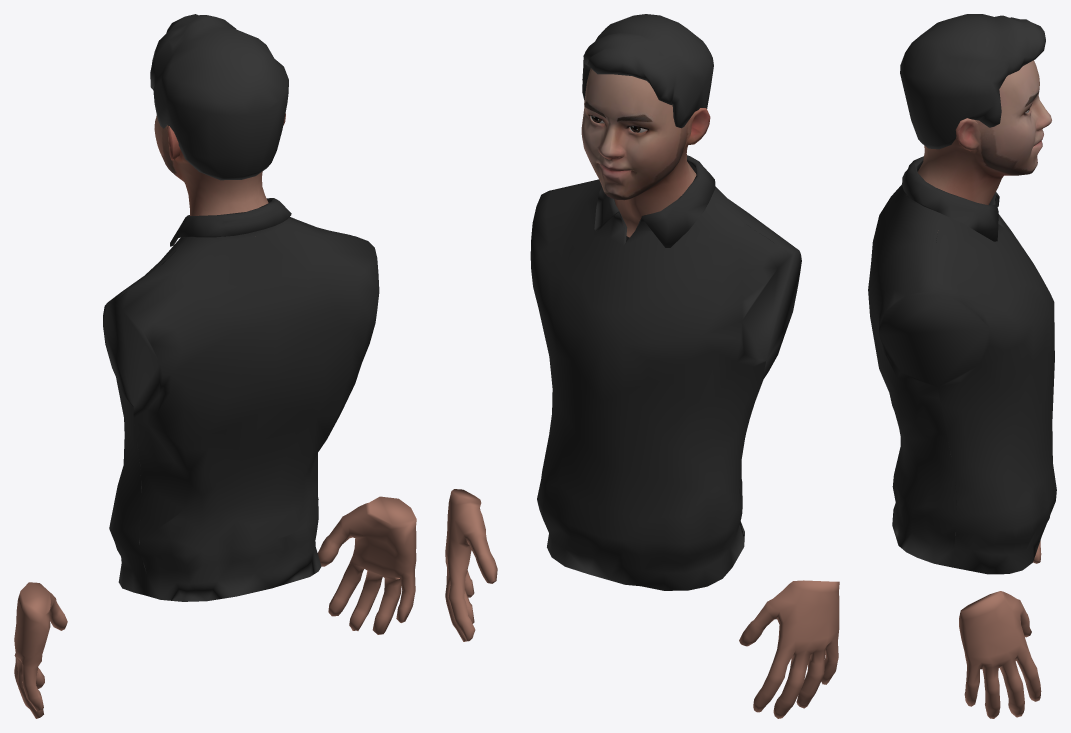
Rendered from avatar.glb.
3 renders of one model, left to right at view 1: azimuth 30°, elevation 25°; view 2: azimuth 150°, elevation 25°; view 3: azimuth 270°, elevation 25°, orthographic. The views are drawn at different scales.
Parts seen in each view (by area): view 1: Wolf3D_Outfit_Top, Wolf3D_Hair, Wolf3D_Right_hand, Wolf3D_Left_hand, Wolf3D_Head; view 2: Wolf3D_Outfit_Top, Wolf3D_Head, Wolf3D_Hair, Wolf3D_Left_hand, Wolf3D_Right_hand; view 3: Wolf3D_Outfit_Top, Wolf3D_Hair, Wolf3D_Head, Wolf3D_Right_hand.
Part boxes in pixels (x1,y1,x2,y2): Wolf3D_Outfit_Top: (103,198,379,601); Wolf3D_Hair: (150,14,288,180); Wolf3D_Right_hand: (317,496,416,634); Wolf3D_Left_hand: (14,582,67,718); Wolf3D_Head: (154,113,285,215); Wolf3D_Outfit_Top: (530,155,801,590); Wolf3D_Head: (581,68,710,237); Wolf3D_Hair: (582,14,713,128); Wolf3D_Left_hand: (739,580,839,718); Wolf3D_Right_hand: (445,489,497,641); Wolf3D_Outfit_Top: (868,156,1056,574); Wolf3D_Hair: (900,14,1045,149); Wolf3D_Head: (917,60,1051,205); Wolf3D_Right_hand: (959,591,1041,718).
Size of the model in its own units: 0.6181 by 0.9859 by 0.2708.
Materials: 6 (4 with a texture image).
